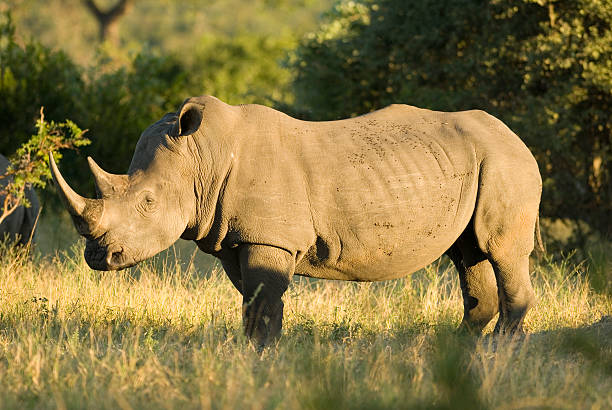rhino: (31, 83, 241, 278)
